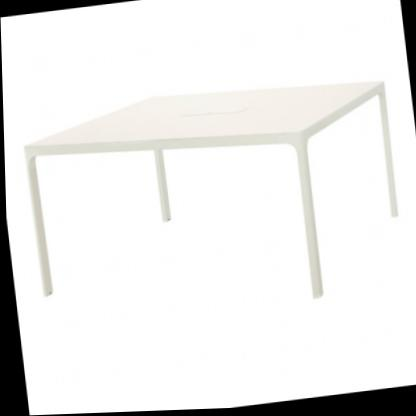Table: (15, 63, 413, 338)
